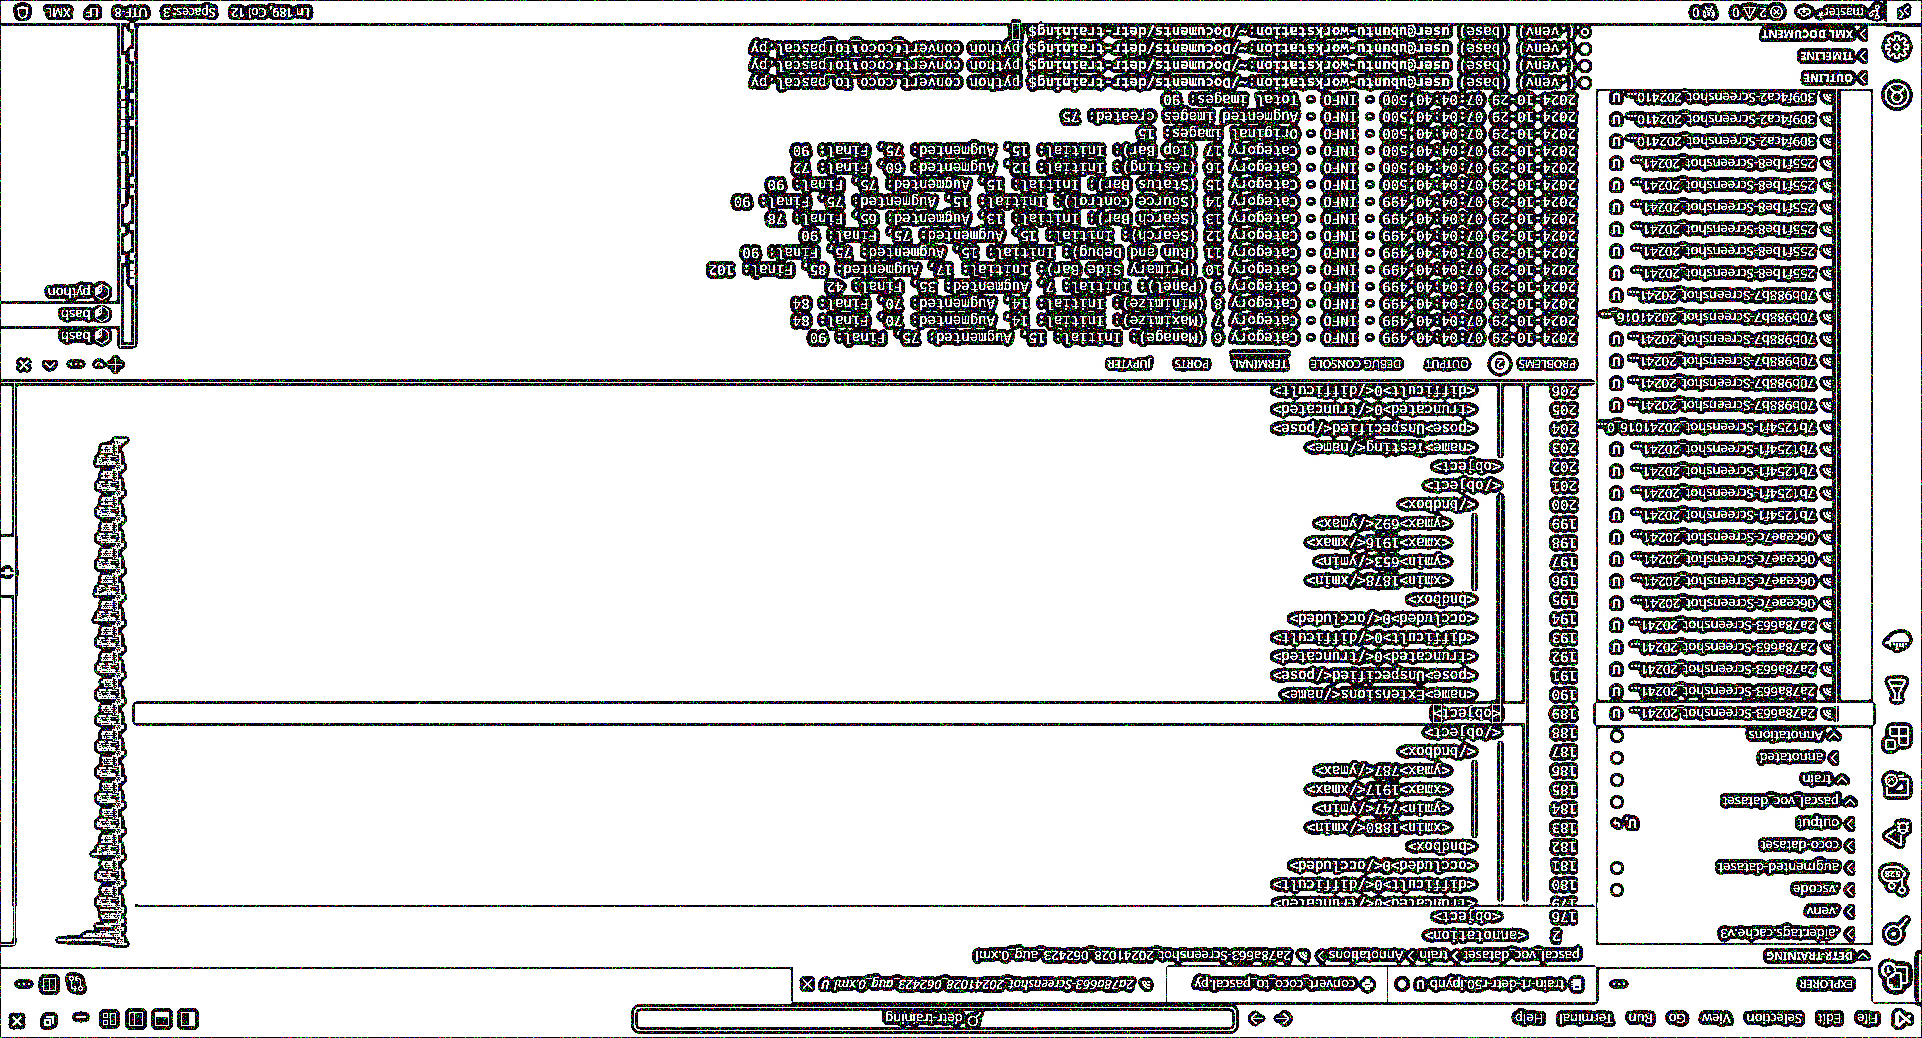Accounts: (1884, 79, 1918, 109)
Activity Bar: (1878, 23, 1921, 998)
Close: (3, 1011, 31, 1035)
Editor: (3, 388, 1594, 998)
Explorer: (1878, 956, 1912, 998)
Extensions: (1884, 723, 1915, 754)
Manage: (1882, 29, 1915, 65)
Maximize: (38, 1010, 60, 1035)
Minimize: (68, 1009, 93, 1034)
Panel: (3, 23, 1597, 384)
Primary Side Bar: (1598, 24, 1874, 999)
Run and Debug: (1883, 817, 1916, 850)
Search: (1881, 915, 1915, 951)
Search Bar: (633, 1004, 1239, 1034)
Source Control: (1876, 862, 1913, 902)
Status Bar: (3, 3, 1921, 23)
Testing: (1885, 671, 1915, 707)
Top Bar: (3, 1003, 1921, 1037)
